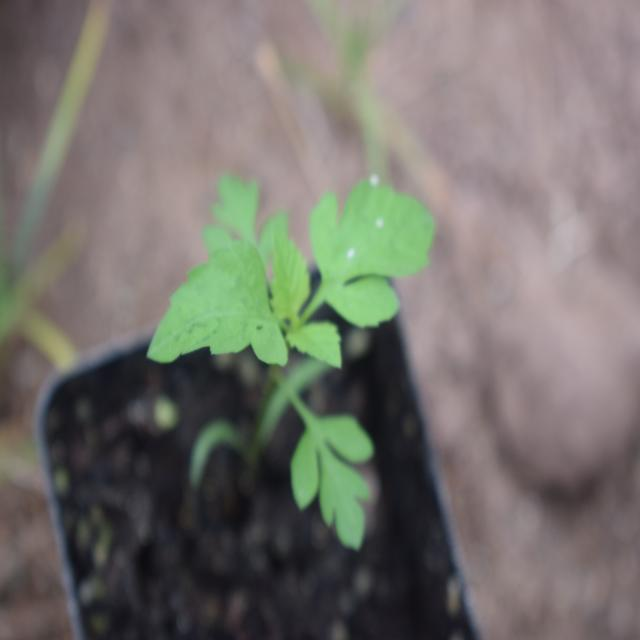Bidens pilosa: (162, 152, 444, 558)
